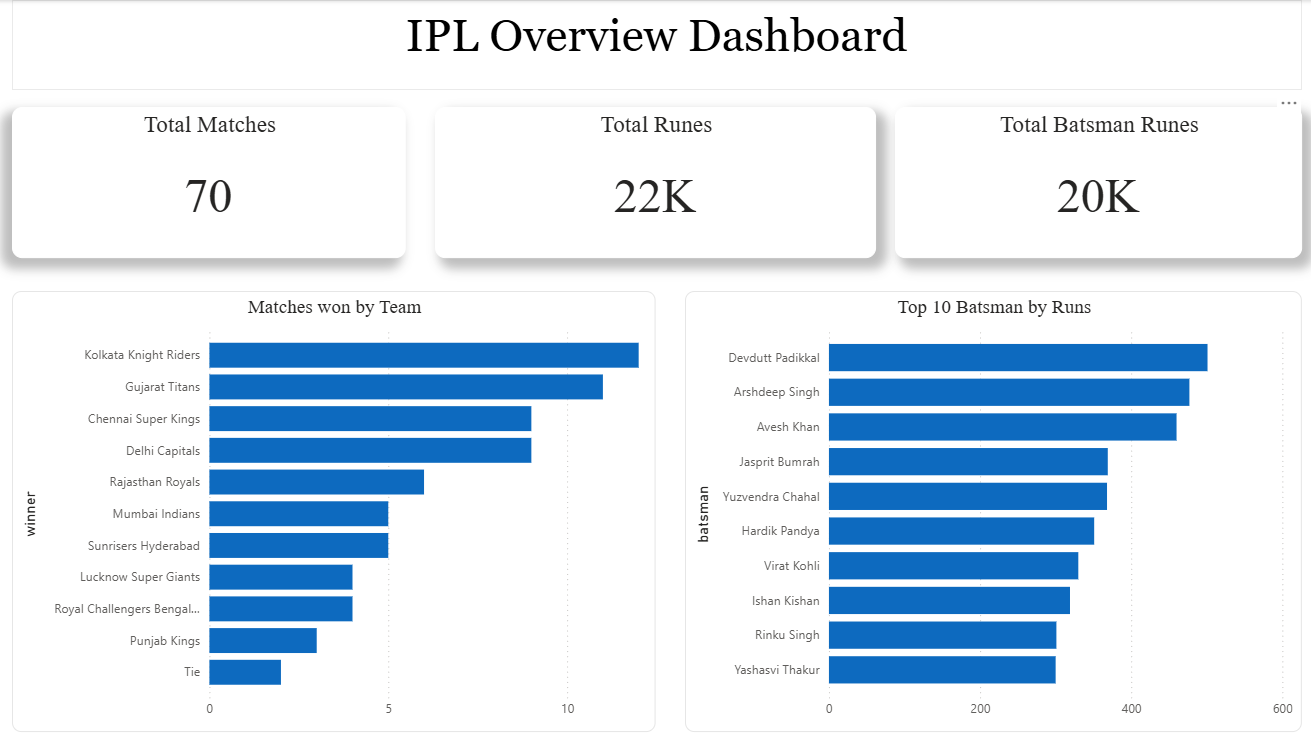

What the dashboard file says about the page in this screenshot:
{"tool":"powerbi","page":{"name":"📊 IPL Overview Dashboard","canvas":[1280,720],"ordinal":0},"visuals":[{"type":"clusteredBarChart","title":"Matches won by Team ","fields":{"Category":["matches_clean.winner"],"Y":["CountNonNull(matches_clean.id)"]},"box":[14.9,283,625.5,428.7],"z":0},{"type":"cardVisual","title":"Total Matches","fields":{"Data":["CountNonNull(matches_clean.id)"]},"box":[14.9,104.3,383,146.8],"z":1000},{"type":"cardVisual","title":"Total Runes","fields":{"Data":["Sum(deliveries_clean.total_runs)"]},"box":[425.5,104.3,428.7,146.8],"z":2000},{"type":"cardVisual","title":"Total Batsman Runes","fields":{"Data":["Sum(deliveries_clean.batsman_runs)"]},"box":[873.4,104.3,395.7,146.8],"z":3000},{"type":"clusteredBarChart","title":"Top 10 Batsman by Runs","fields":{"Category":["deliveries_clean.batsman"],"Y":["Sum(deliveries_clean.batsman_runs)"]},"box":[669.1,283,600,428.7],"z":4000},{"type":"shape","box":[14.9,0,1254.3,87.2],"z":5000}]}

Visuals, with their boxes in screenshot pixels (x1, y1, x2, y2), scaled from the page's 1280x720 canvas onto the 1311x739 screenshot:
"Matches won by Team " clusteredBarChart: <bbox>15, 290, 656, 730</bbox>
"Total Matches" cardVisual: <bbox>15, 107, 408, 258</bbox>
"Total Runes" cardVisual: <bbox>436, 107, 875, 258</bbox>
"Total Batsman Runes" cardVisual: <bbox>895, 107, 1300, 258</bbox>
"Top 10 Batsman by Runs" clusteredBarChart: <bbox>685, 290, 1300, 730</bbox>
shape: <bbox>15, 0, 1300, 90</bbox>
